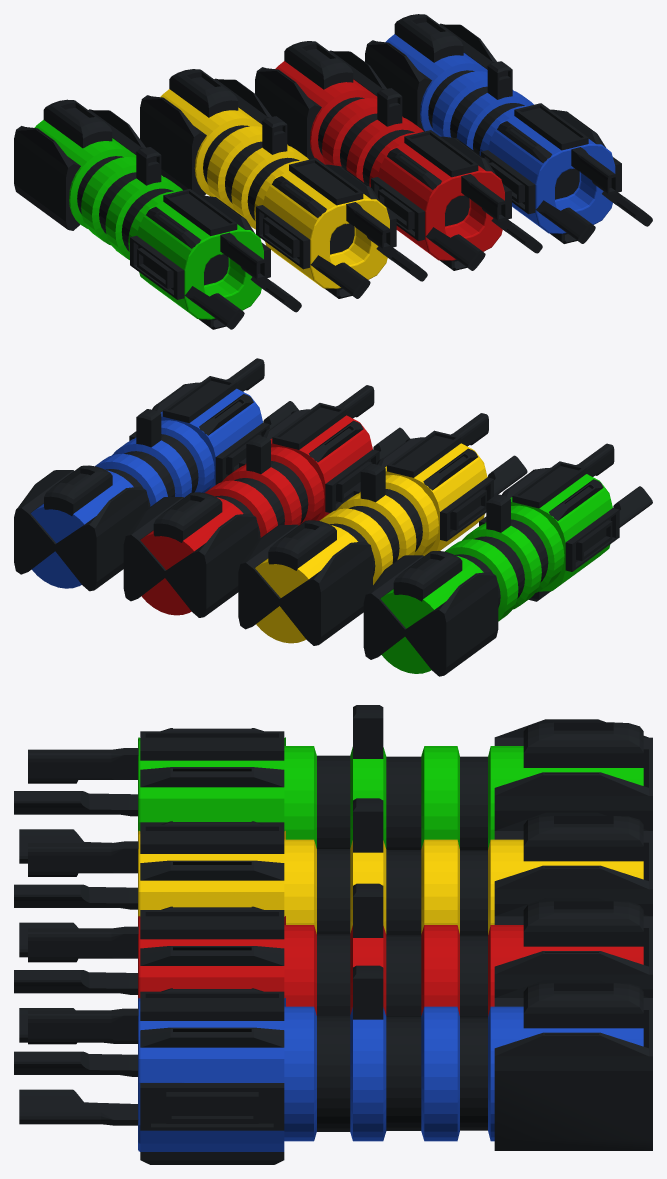
Rendered from PlasmaGunLevel3.fbx.
The picture shows the model from 3 angles, top to bottom: view 1: azimuth 30°, elevation 25°; view 2: azimuth 150°, elevation 25°; view 3: azimuth 270°, elevation 25°; orthographic projection. The views are drawn at different scales.
Parts seen in each view (by area): view 1: PlasmaGunLevel3Green, PlasmaGunLevel3Yellow, PlasmaGunLevel3Red, PlasmaGunLevel3Blue; view 2: PlasmaGunLevel3Green, PlasmaGunLevel3Yellow, PlasmaGunLevel3Red, PlasmaGunLevel3Blue; view 3: PlasmaGunLevel3Blue, PlasmaGunLevel3Green, PlasmaGunLevel3Yellow, PlasmaGunLevel3Red.
Part boxes in pixels (<box>): PlasmaGunLevel3Green: <box>14,99,301,329</box>; PlasmaGunLevel3Yellow: <box>140,69,427,298</box>; PlasmaGunLevel3Red: <box>255,41,542,270</box>; PlasmaGunLevel3Blue: <box>365,14,652,243</box>; PlasmaGunLevel3Green: <box>363,443,652,676</box>; PlasmaGunLevel3Yellow: <box>238,413,527,645</box>; PlasmaGunLevel3Red: <box>123,385,409,617</box>; PlasmaGunLevel3Blue: <box>14,358,298,591</box>; PlasmaGunLevel3Blue: <box>14,965,652,1164</box>; PlasmaGunLevel3Green: <box>14,705,652,863</box>; PlasmaGunLevel3Yellow: <box>14,798,652,957</box>; PlasmaGunLevel3Red: <box>14,883,652,1043</box>.
Size of the model in its own units: 337 by 89.84 by 274.
